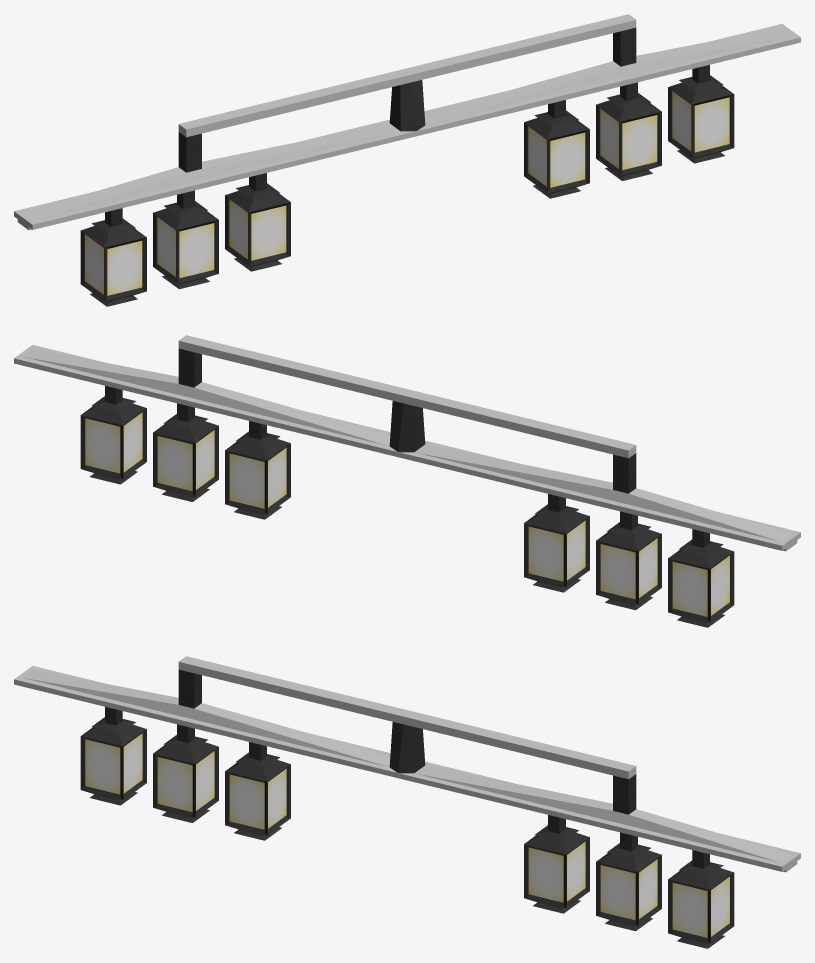
The model's file is fringeLight.fbx.
3 views of the same model, one above another, from view 1: azimuth 30°, elevation 25°; view 2: azimuth 150°, elevation 25°; view 3: azimuth 330°, elevation 25° (orthographic).
Visible parts, largest first — view 1: Cube; view 2: Cube; view 3: Cube.
Boxes of the visible parts, left/top/right/bottom form: Cube: left=14, top=14, right=800, bottom=306; Cube: left=14, top=335, right=800, bottom=627; Cube: left=14, top=656, right=800, bottom=948.
Bounding box in the file's own units: 4768 × 922 × 255.
